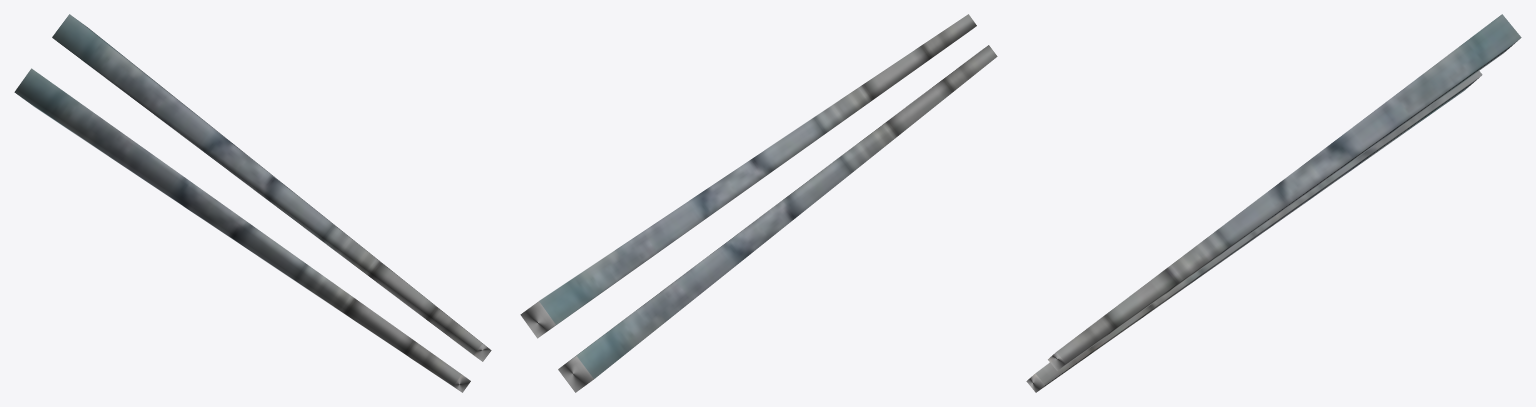
The model's file is koreaLance.glb.
The picture shows the model from 3 angles, left to right: view 1: azimuth 30°, elevation 25°; view 2: azimuth 150°, elevation 25°; view 3: azimuth 330°, elevation 25°; orthographic projection. The views are drawn at different scales.
Visible parts, largest first — view 1: koreaLance; view 2: koreaLance; view 3: koreaLance.
Boxes of the visible parts, <box> form: koreaLance: <box>14,14,491,392</box>; koreaLance: <box>520,14,997,392</box>; koreaLance: <box>1026,14,1521,392</box>.
Size of the model in its own units: 0.2285 by 0.2455 by 2.26.
1 material, 1 textured.
